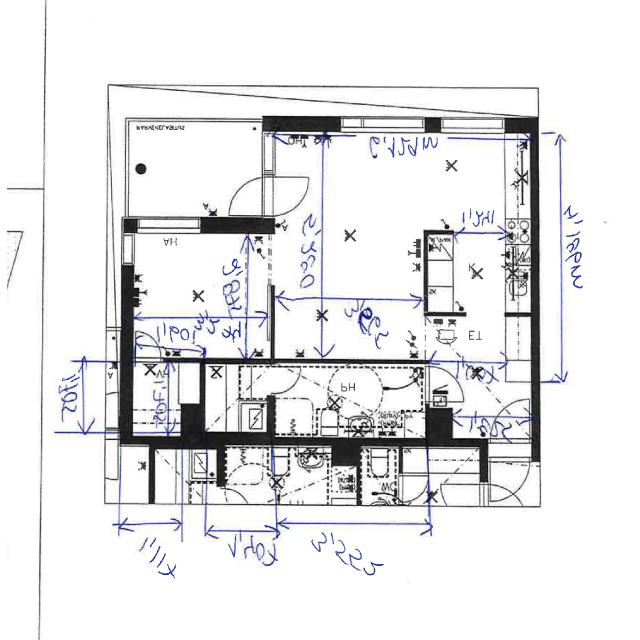door: (262, 177, 314, 216), (225, 177, 276, 216), (490, 456, 530, 504), (490, 395, 530, 443), (426, 366, 464, 401), (271, 366, 302, 394), (136, 333, 161, 364)
